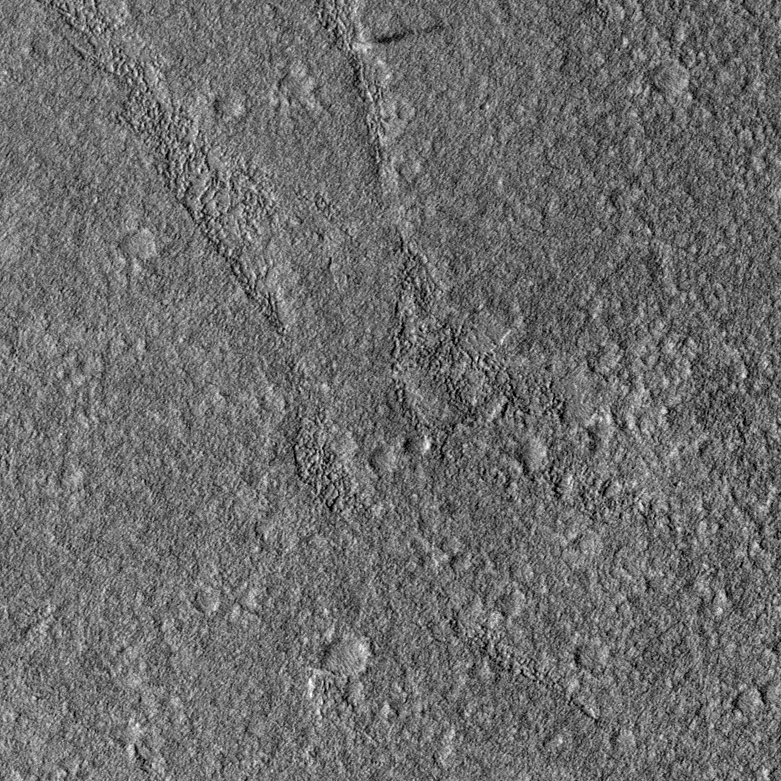dust_devil: (349, 22, 449, 54)
